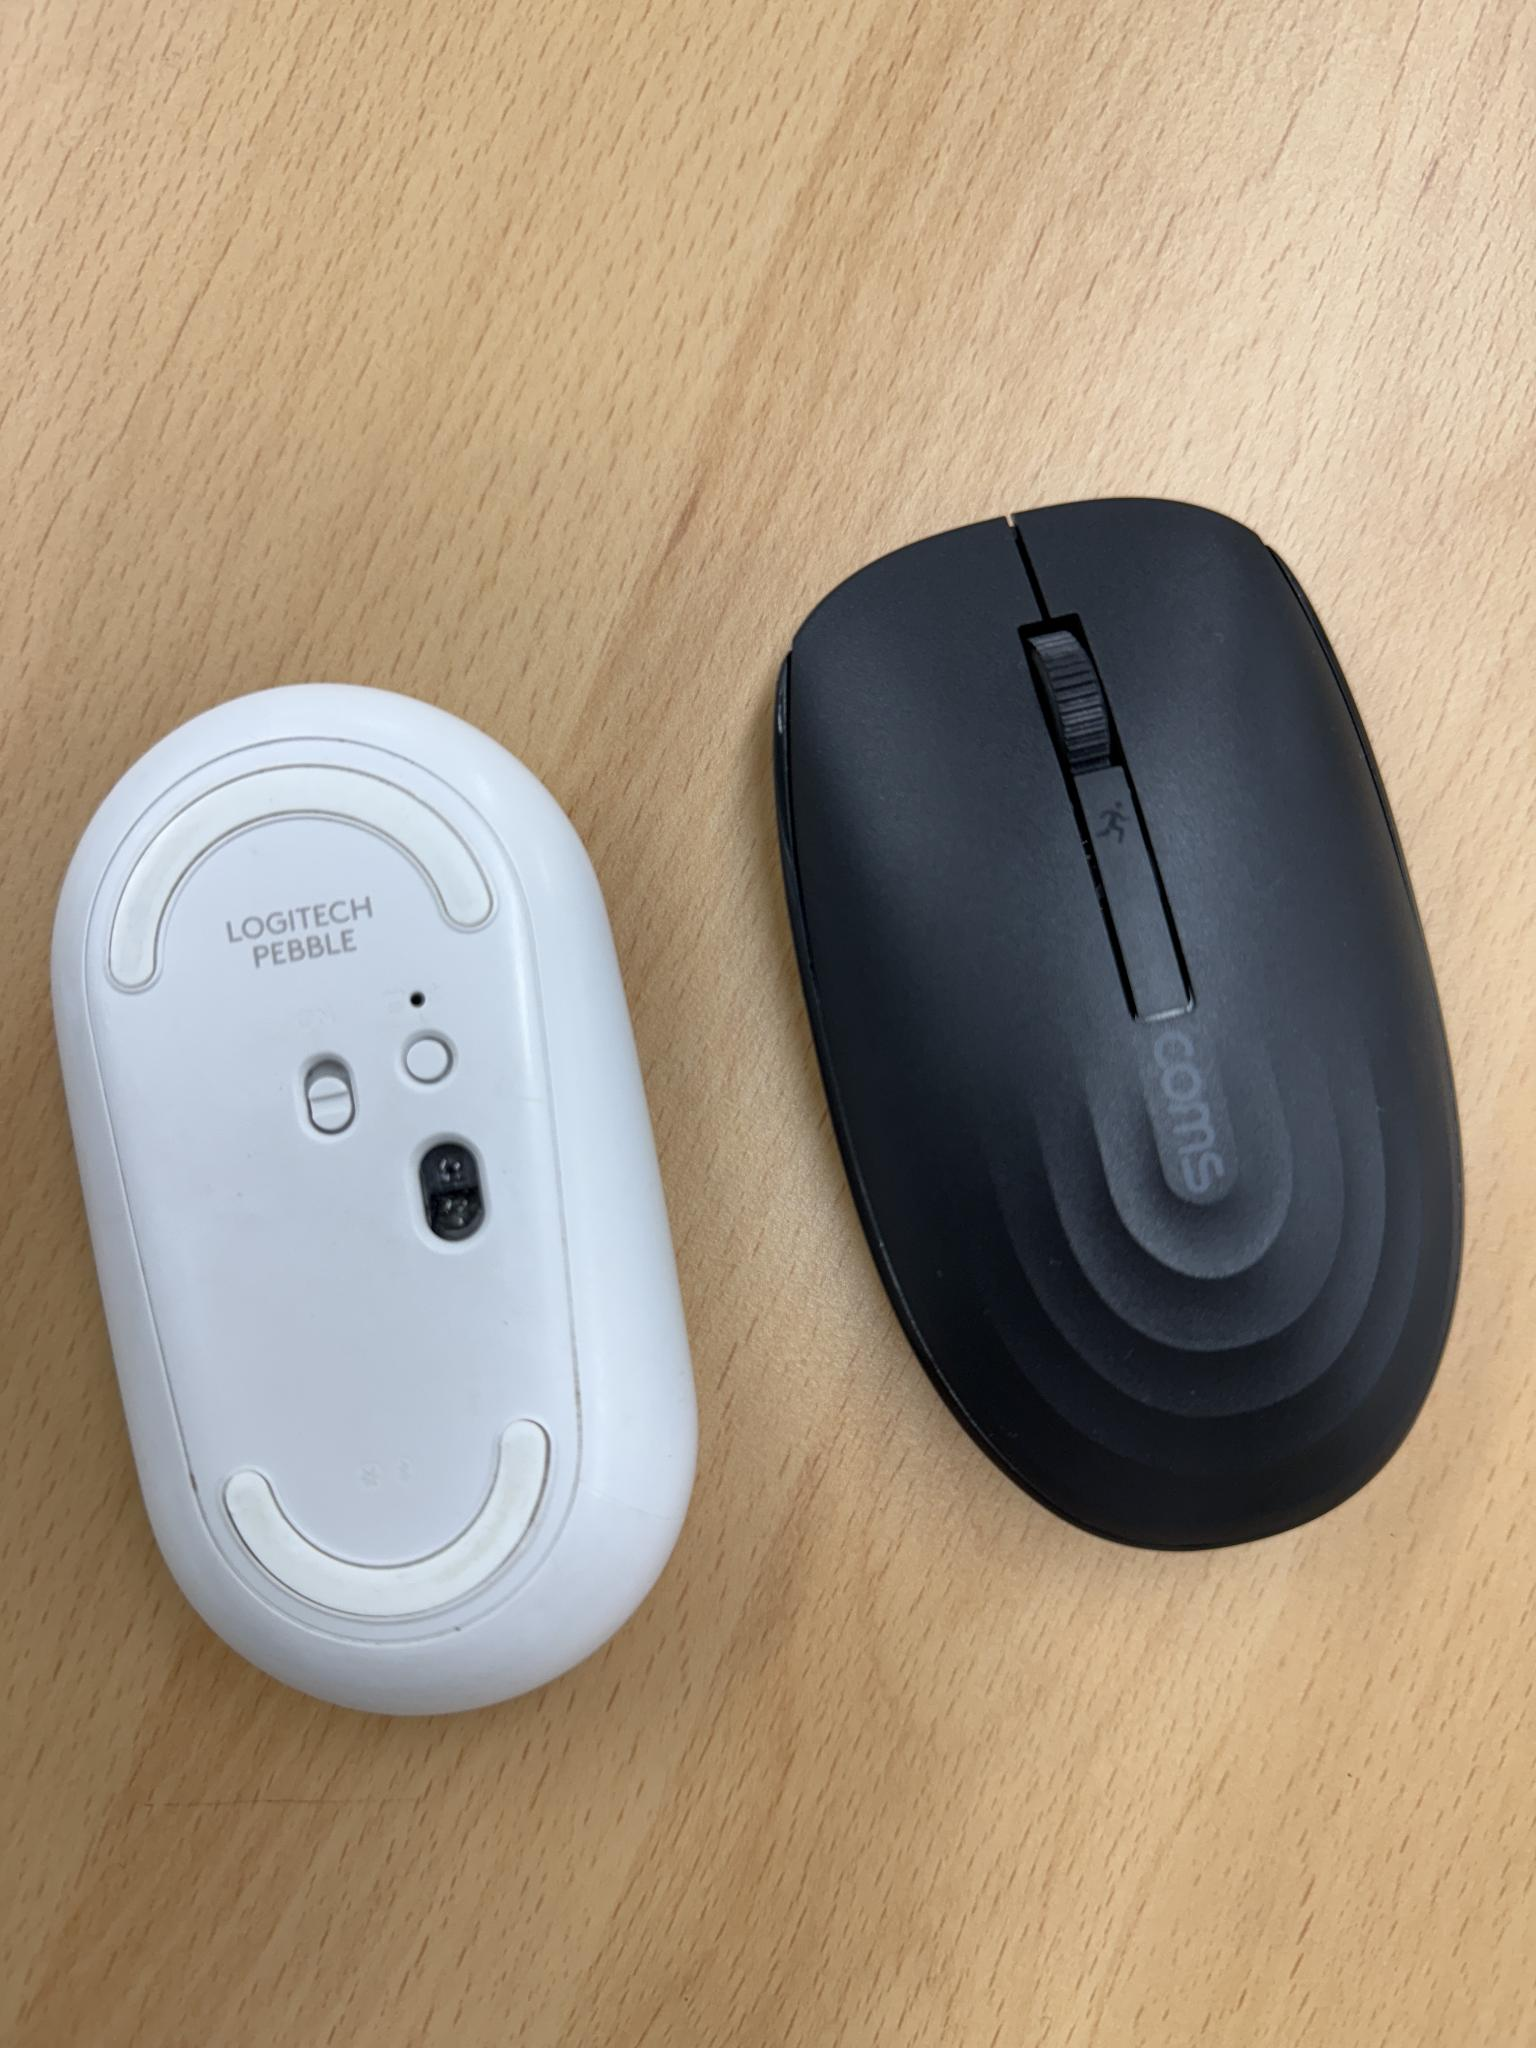back: (40, 681, 716, 1714)
front: (765, 482, 1473, 1550)
